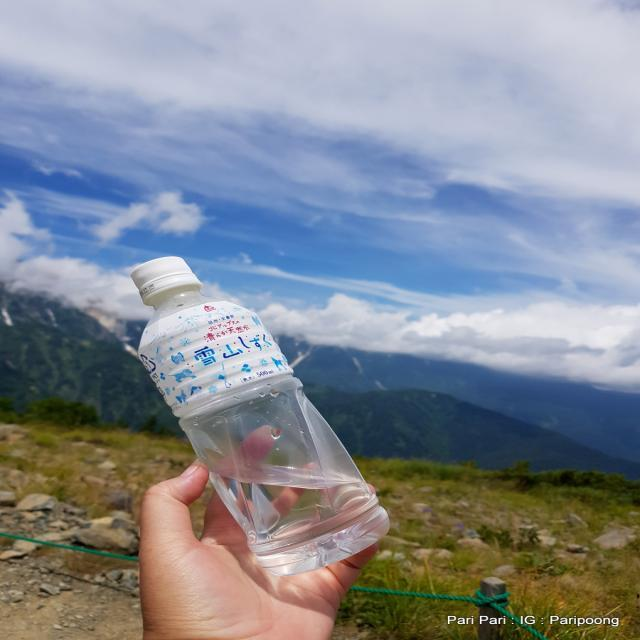plastic_bottle: (130, 256, 390, 576)
